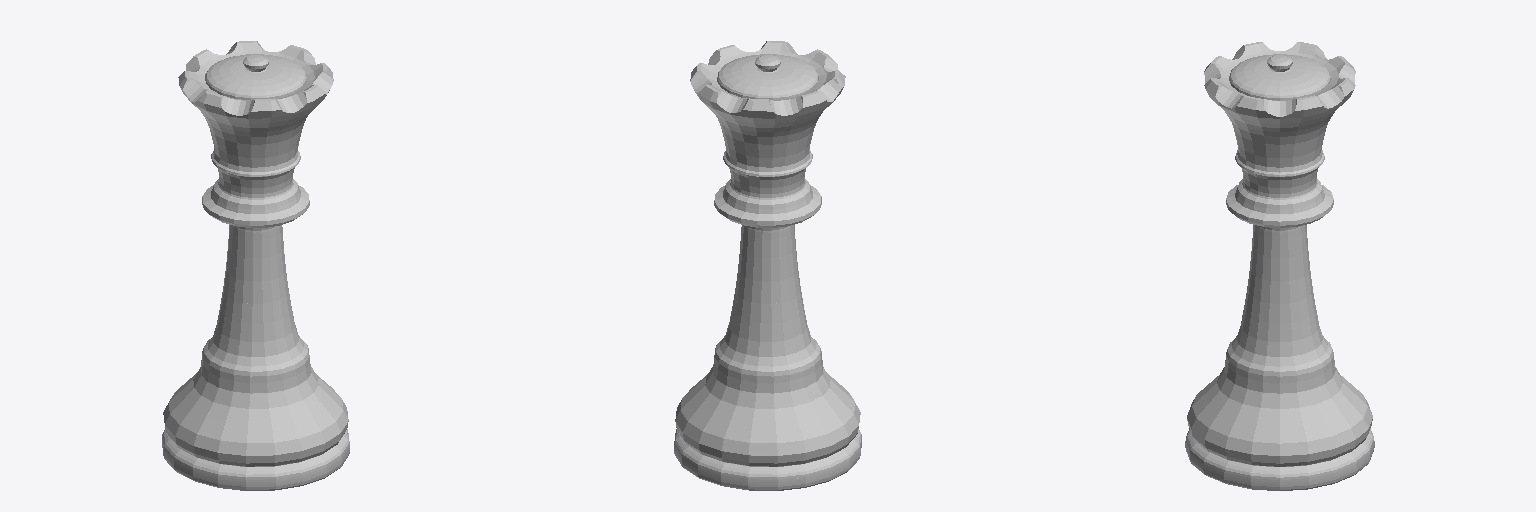
The model's file is queen_b.obj.
3 views of the same model, side by side, from view 1: azimuth 30°, elevation 25°; view 2: azimuth 150°, elevation 25°; view 3: azimuth 270°, elevation 25° (orthographic).
Parts seen in each view (by area): view 1: queen_b; view 2: queen_b; view 3: queen_b.
Boxes of the visible parts, <box> form: queen_b: <box>162,41,349,490</box>; queen_b: <box>674,41,861,490</box>; queen_b: <box>1185,42,1374,490</box>.
Size of the model in its own units: 3.72 by 8.59 by 3.72.